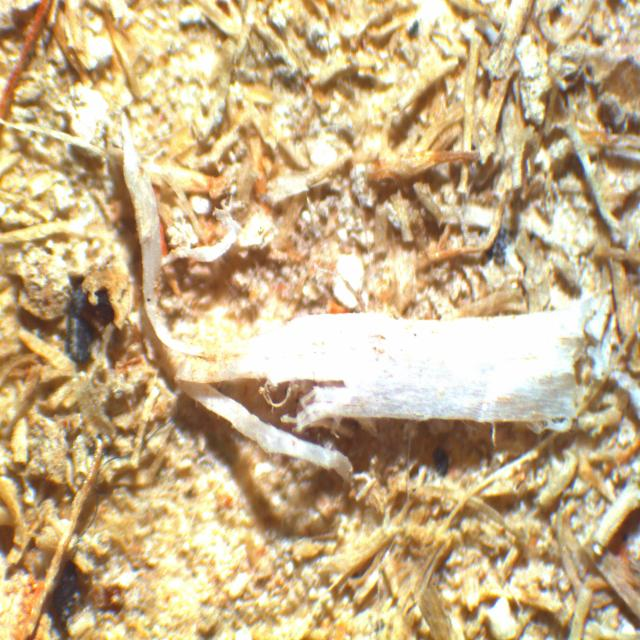microplastic: (177, 296, 592, 428)
